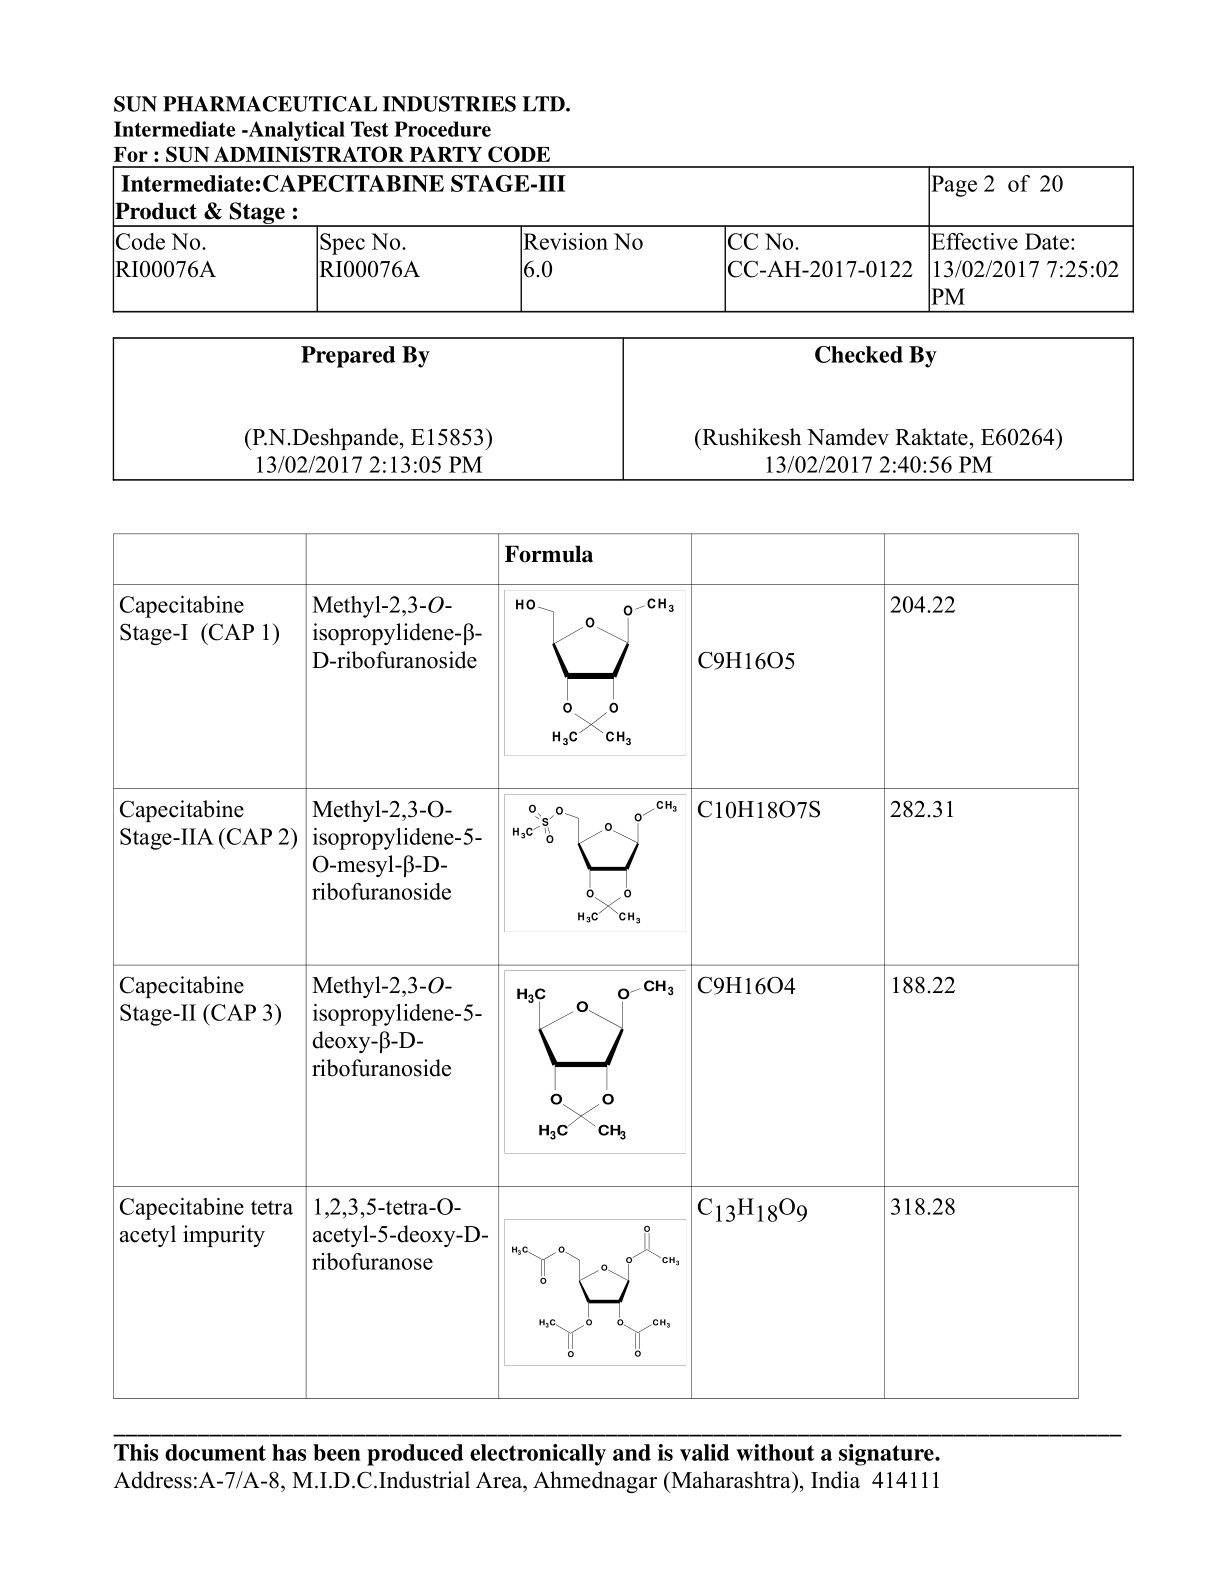full_lined: (112, 531, 1080, 1399), (112, 337, 1134, 482)
merged_cells: (112, 166, 1134, 312)
